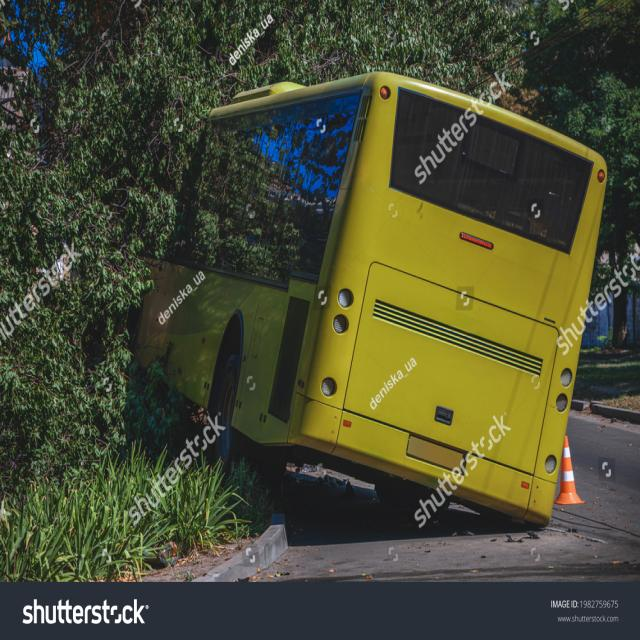Accident: (136, 62, 559, 533)
